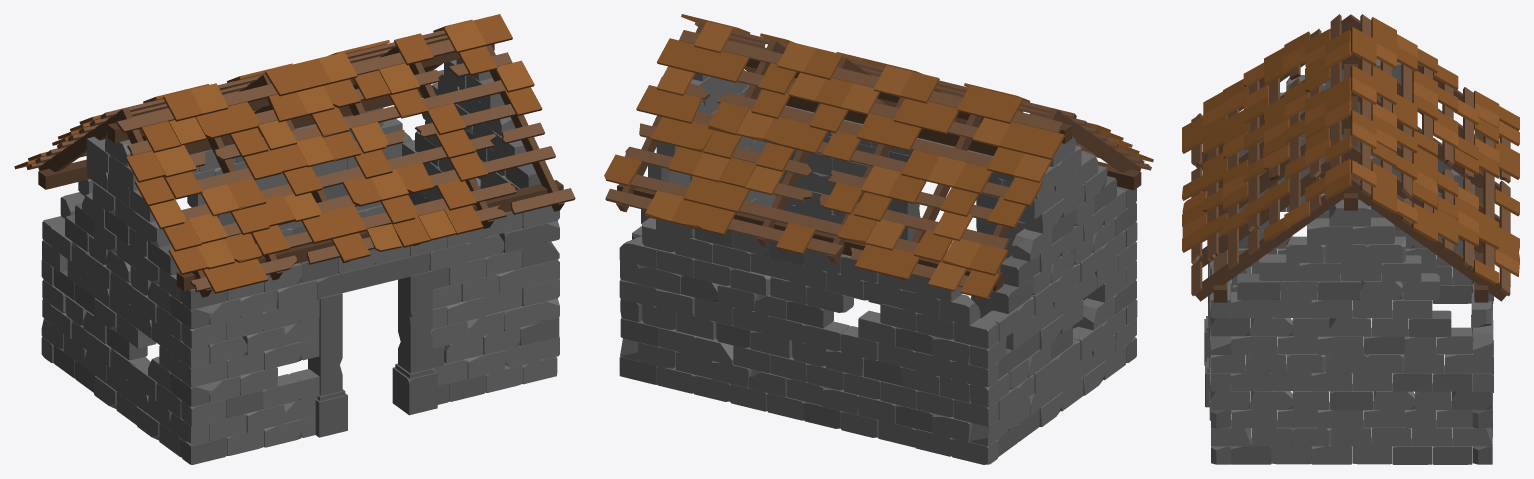
File: House_01.fbx
The picture shows the model from 3 angles, left to right: view 1: azimuth 30°, elevation 25°; view 2: azimuth 150°, elevation 25°; view 3: azimuth 270°, elevation 25°; orthographic projection. The views are drawn at different scales.
Visible parts, largest first — view 1: House_01_LOD0; view 2: House_01_LOD0; view 3: House_01_LOD0.
Boxes of the visible parts, box(x1,y1,x2,y2) form: House_01_LOD0: box(14, 14, 575, 464); House_01_LOD0: box(604, 14, 1153, 464); House_01_LOD0: box(1182, 14, 1519, 464).
Size of what is drawn, in the model's own units: 6.91 by 5.06 by 5.4.
